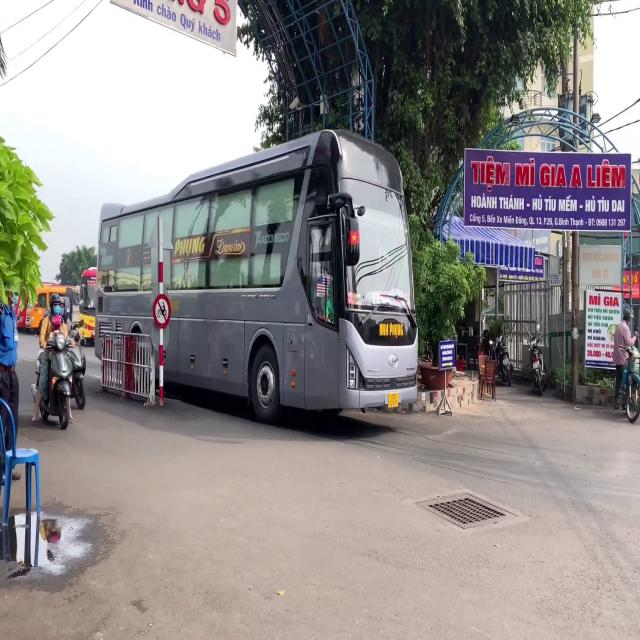bien_vang: (387, 392, 399, 408)
